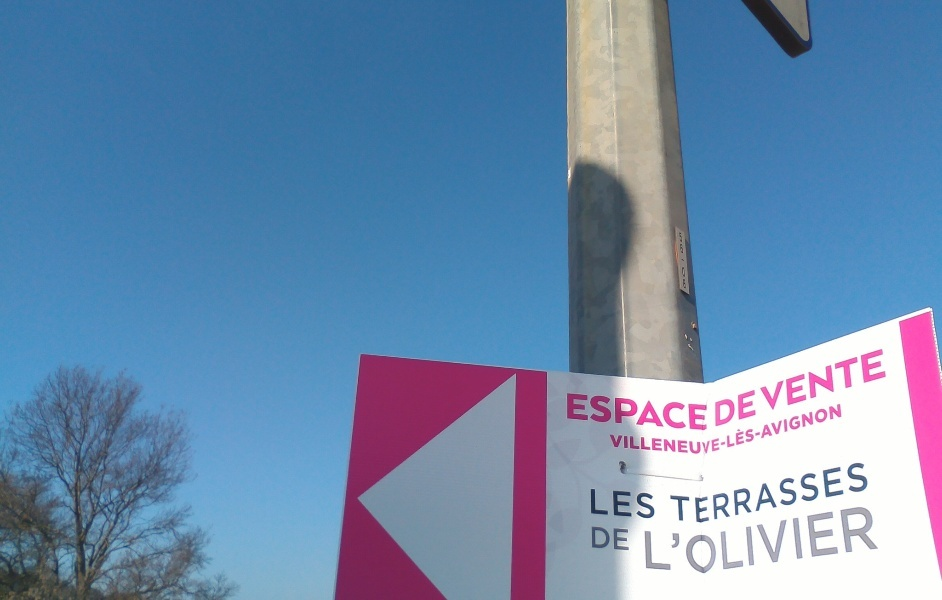text: (657, 505, 672, 581), (673, 505, 688, 581), (689, 505, 704, 581), (705, 505, 720, 581), (721, 505, 736, 581), (737, 505, 752, 581), (753, 505, 768, 581), (769, 505, 784, 581), (785, 505, 800, 581), (801, 505, 816, 581), (817, 505, 832, 581), (833, 505, 848, 581), (849, 505, 864, 581), (865, 505, 880, 581), (642, 505, 656, 581), (673, 460, 688, 528), (689, 460, 704, 528), (705, 460, 720, 528), (721, 460, 736, 528), (737, 460, 752, 528), (753, 460, 768, 528), (769, 460, 784, 528), (785, 460, 800, 528), (801, 460, 816, 528), (817, 460, 832, 528), (833, 460, 848, 528), (849, 460, 864, 528), (769, 345, 784, 412), (785, 345, 800, 412), (801, 345, 816, 412), (817, 345, 832, 412), (833, 345, 848, 412), (849, 345, 864, 412), (865, 345, 880, 412), (609, 403, 624, 467), (625, 403, 640, 467), (641, 403, 656, 467), (657, 403, 672, 467), (673, 403, 688, 467), (689, 403, 704, 467), (705, 403, 720, 467), (721, 403, 736, 467), (737, 403, 752, 467), (753, 403, 768, 467), (769, 403, 784, 467), (785, 403, 800, 467), (801, 403, 816, 467), (817, 403, 832, 467), (833, 403, 844, 467), (881, 345, 891, 412), (759, 345, 768, 412), (721, 388, 736, 428), (737, 388, 752, 428), (577, 393, 592, 431), (593, 393, 608, 431), (609, 393, 624, 431), (625, 393, 640, 431), (641, 393, 656, 431), (657, 393, 672, 431), (673, 393, 688, 431), (689, 393, 704, 431), (865, 460, 873, 528), (593, 486, 608, 519), (609, 486, 624, 519), (625, 486, 640, 519), (641, 486, 656, 519), (593, 525, 608, 551), (609, 525, 624, 551), (566, 393, 576, 431), (714, 388, 720, 428), (881, 505, 884, 581), (669, 460, 672, 528), (753, 388, 757, 428), (705, 393, 709, 431), (625, 525, 630, 551), (678, 231, 688, 244), (681, 244, 688, 257), (682, 266, 688, 278), (682, 279, 688, 291), (590, 486, 592, 519), (682, 258, 688, 264)
